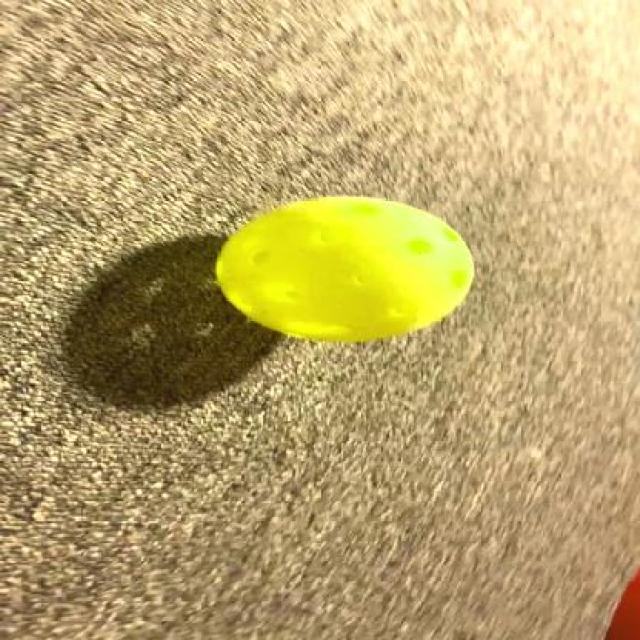ball: (218, 187, 482, 347)
